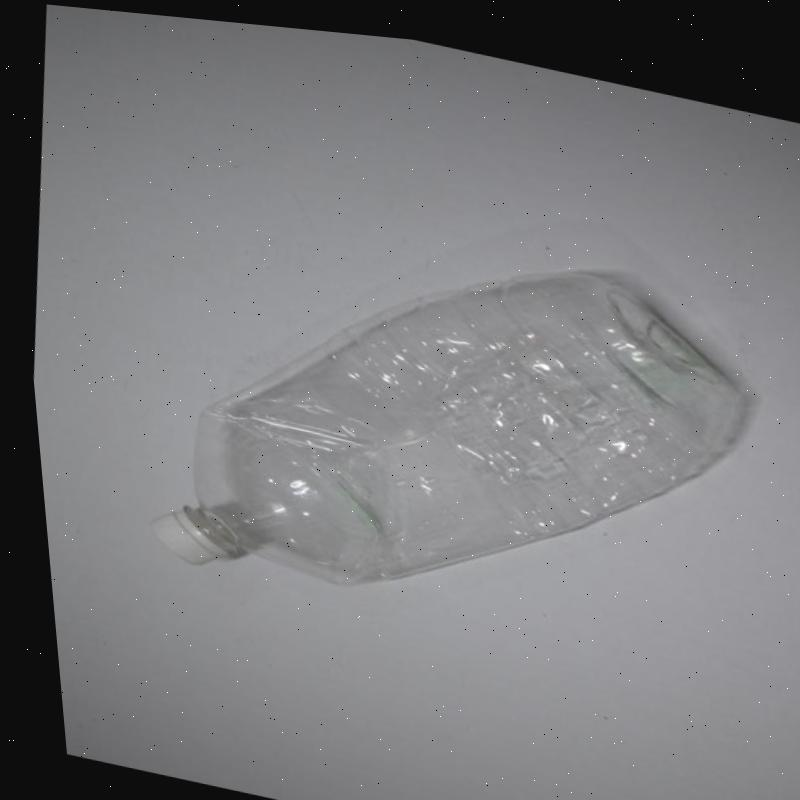botella: (108, 173, 770, 674)
